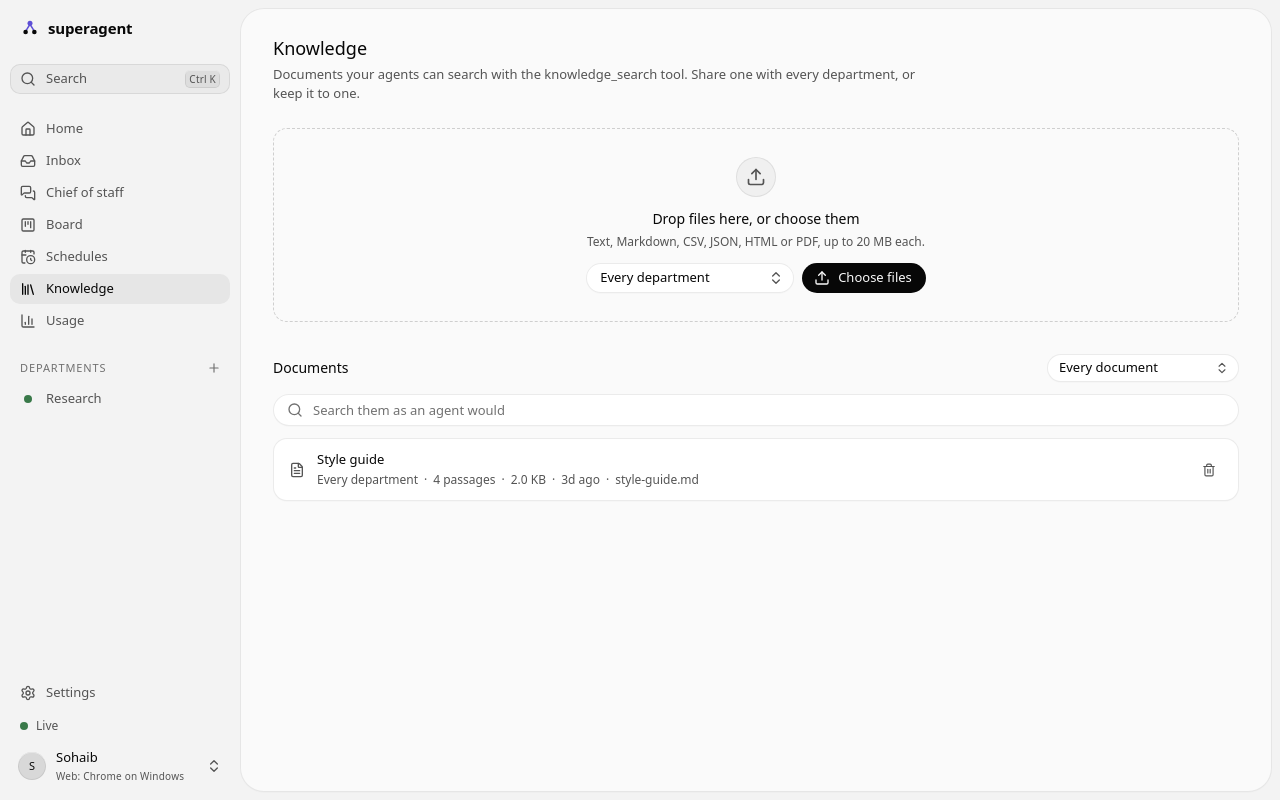
Test case: knowledge › finds passages as an agent would, and deletes a document
This screenshot has width=1280, height=800.
Check: the text "Style guide" is shown, box [317, 450, 384, 468]
In the search field named "Search the documents": (756, 410) [273, 394, 1239, 426], type "sources"
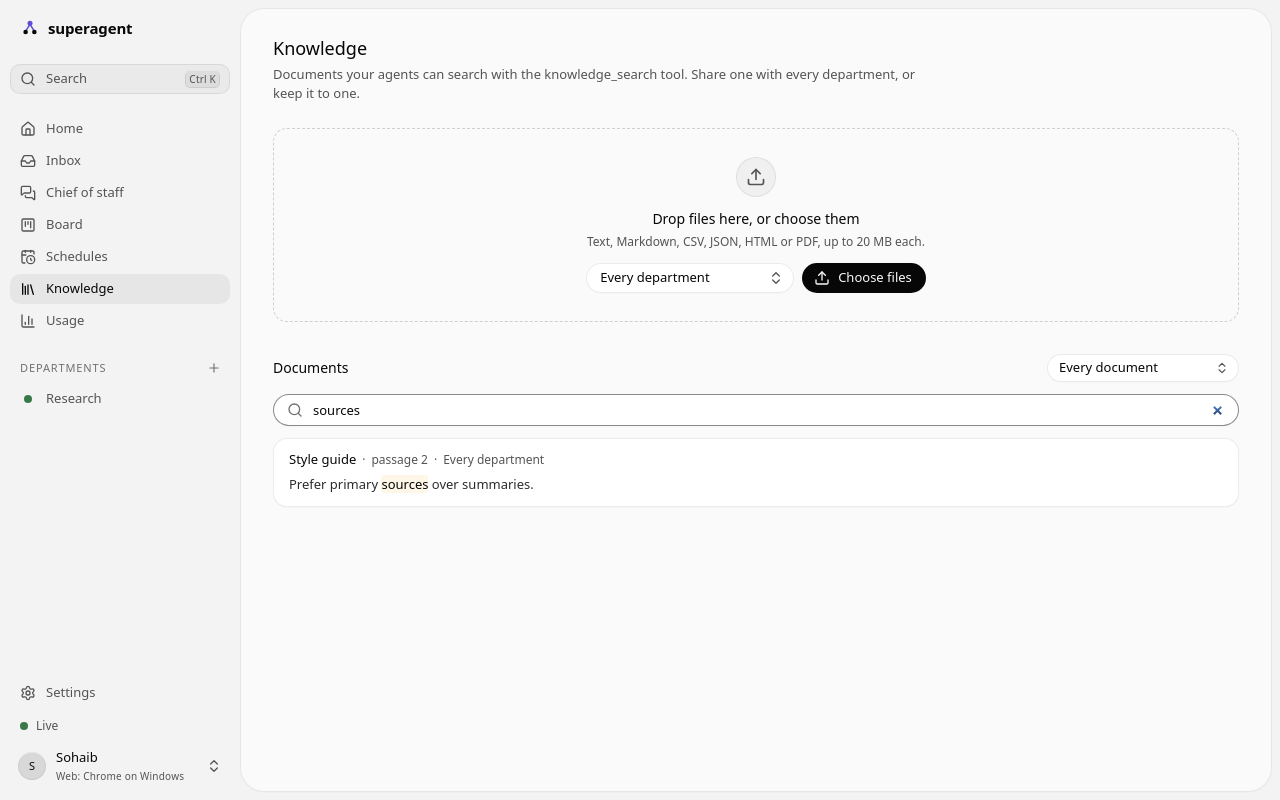
Check: the text "passage 2" is shown, box [372, 451, 428, 469]
Check: the text "sources" is shown, box [381, 476, 428, 494]
Clear the search field named "Search the documents": (756, 410) [273, 394, 1239, 426]
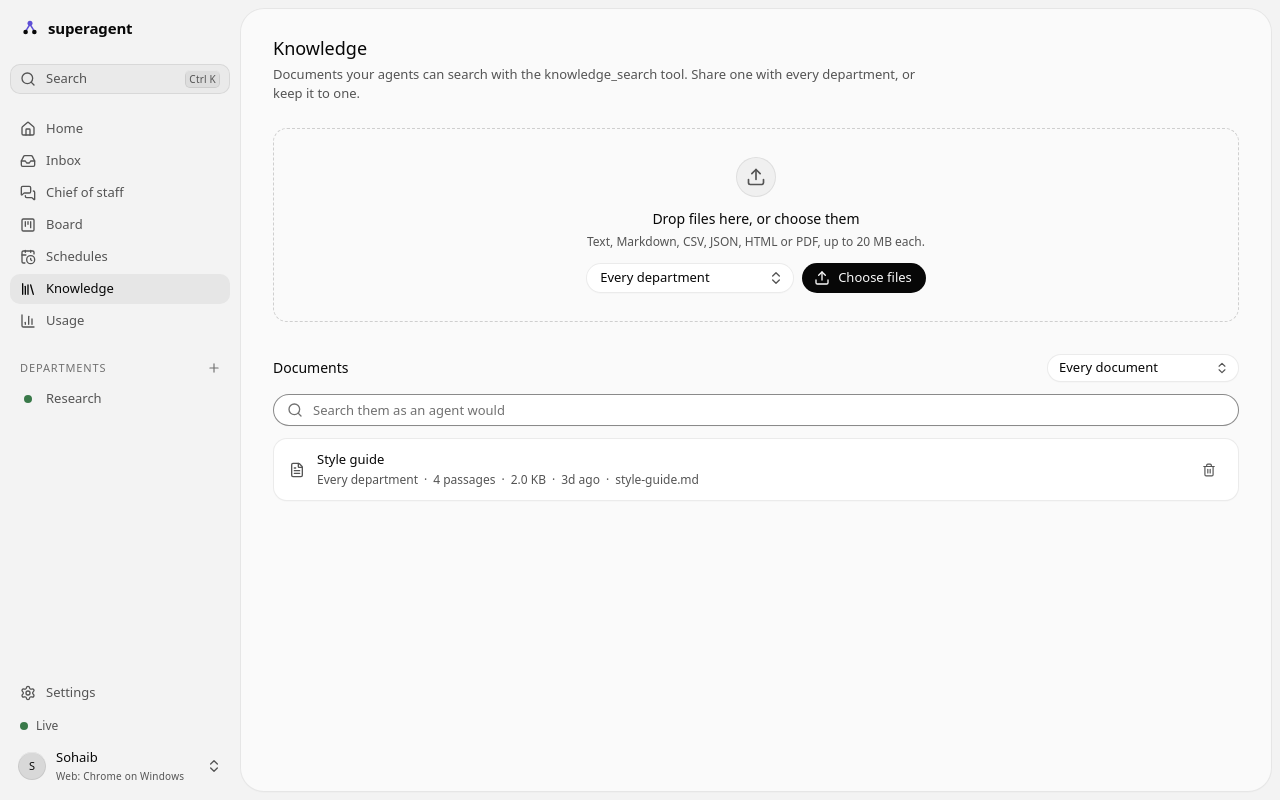
Click the button named "Delete Style guide": click(1209, 470) [1195, 456, 1223, 484]
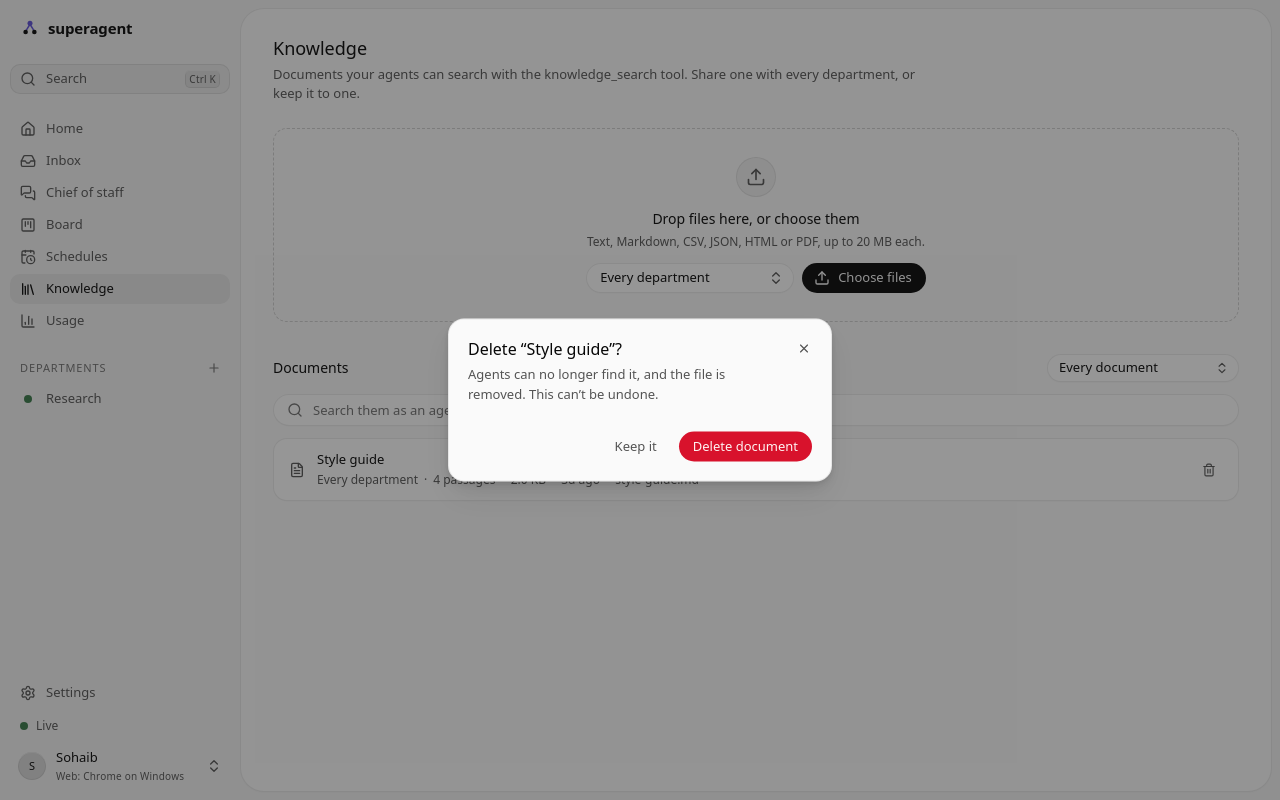
Click the button "Delete document": click(745, 446) [679, 432, 812, 462]
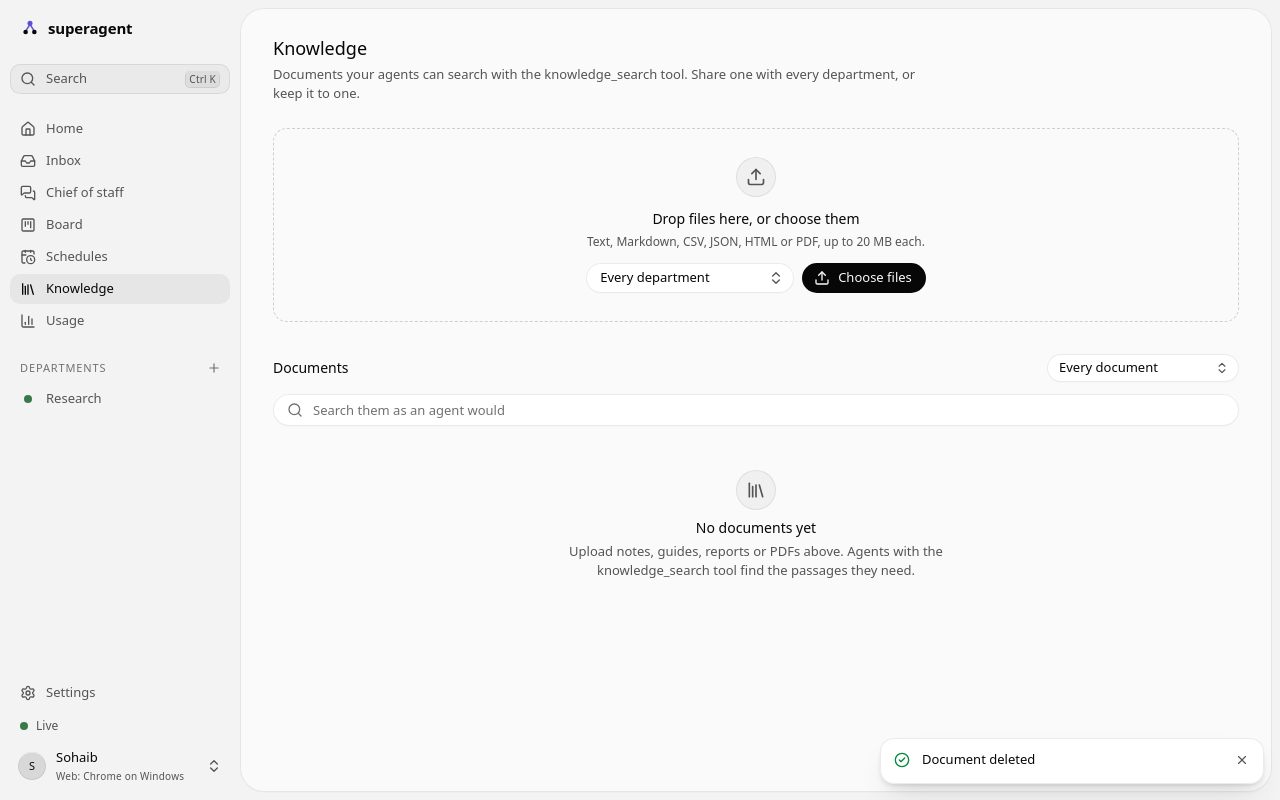
Check: the text "No documents yet" is shown, box [696, 518, 816, 537]
